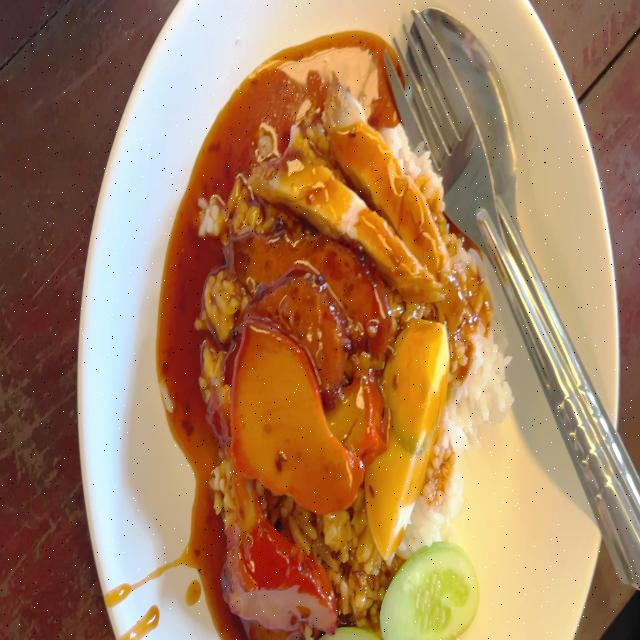boiled_egg: (370, 312, 451, 564)
chainese_sausage: (233, 210, 381, 364)
crispy_pork: (261, 90, 447, 290)
cucumber: (385, 540, 478, 640)
red_pork: (232, 316, 356, 504), (216, 506, 336, 628)
red_pork_and_crispy_pork: (200, 86, 498, 640)
